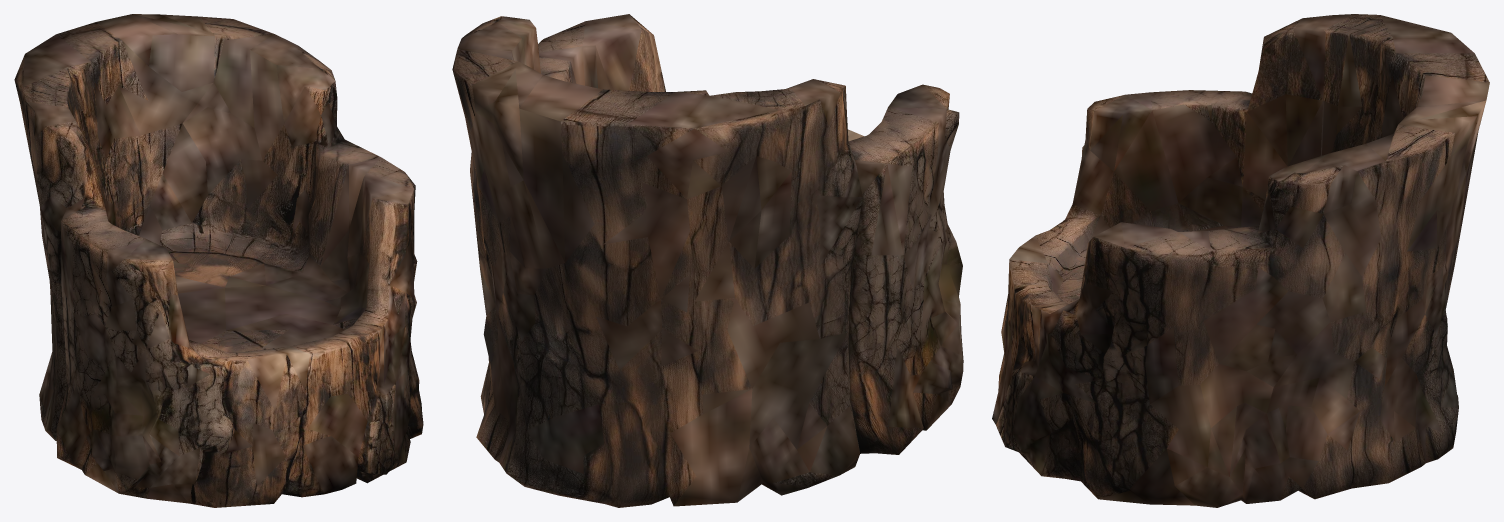
The model's file is stump-chair.glb.
3 views of the same model, side by side, from view 1: azimuth 30°, elevation 25°; view 2: azimuth 150°, elevation 25°; view 3: azimuth 270°, elevation 25° (orthographic). The views are drawn at different scales.
Bounding box in the file's own units: 1.54 × 1.48 × 1.92.
Materials: 1 (1 with a texture image).
